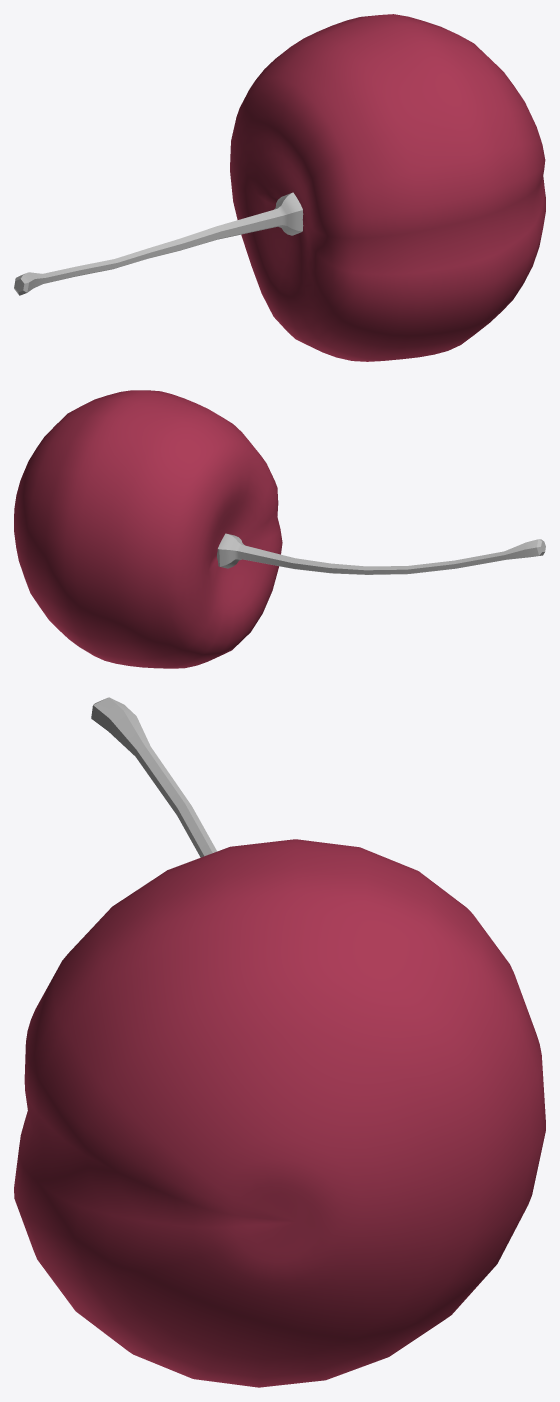
Rendered from Kiraz_Tek_Parca.fbx.
3 views of the same model, one above another, from view 1: azimuth 30°, elevation 25°; view 2: azimuth 150°, elevation 25°; view 3: azimuth 270°, elevation 25° (orthographic). The views are drawn at different scales.
Parts seen in each view (by area): view 1: Kiraz28; view 2: Kiraz28; view 3: Kiraz28.
Boxes of the visible parts, box(x1,y1,x2,y2) form: Kiraz28: box(14, 14, 545, 361); Kiraz28: box(14, 390, 545, 668); Kiraz28: box(14, 697, 545, 1387).
Bounding box in the file's own units: 0.5209 × 0.274 × 0.2617.
